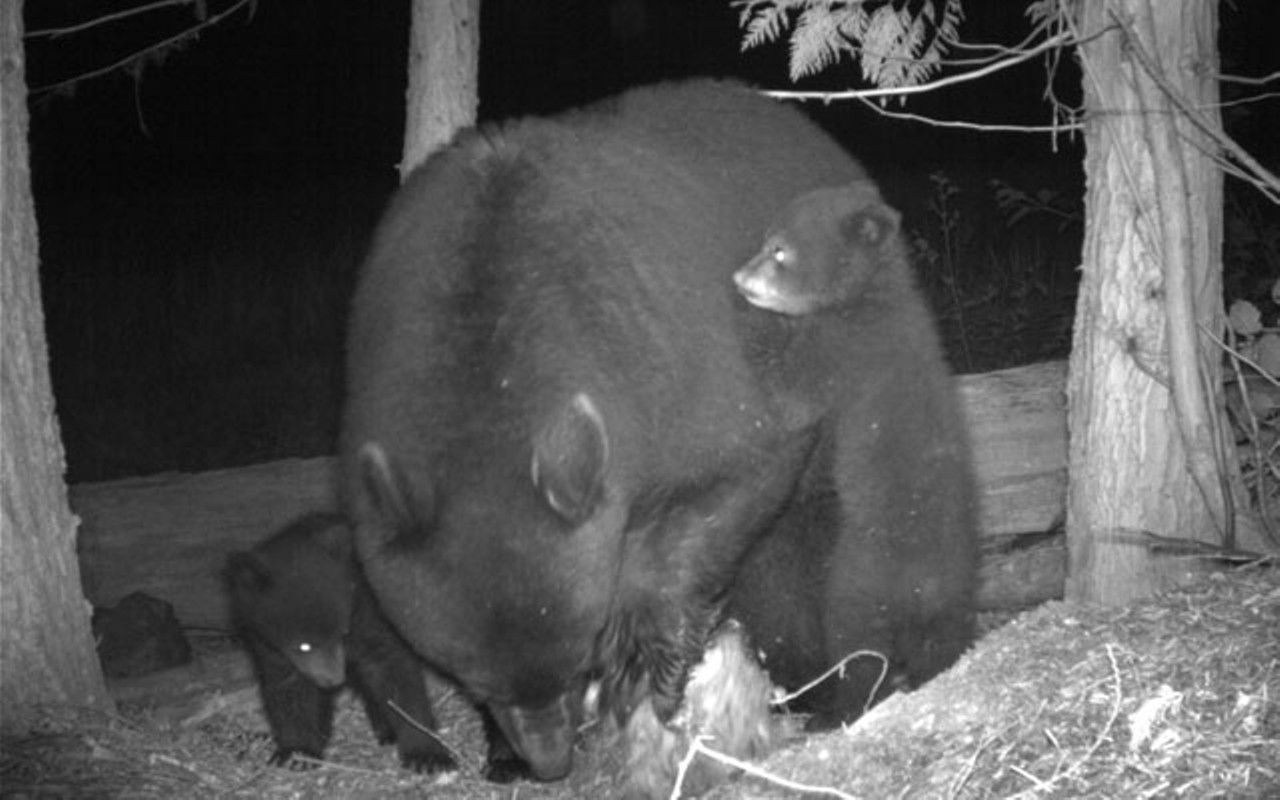bear: (169, 60, 1148, 781), (737, 194, 1008, 729), (228, 508, 452, 767)
